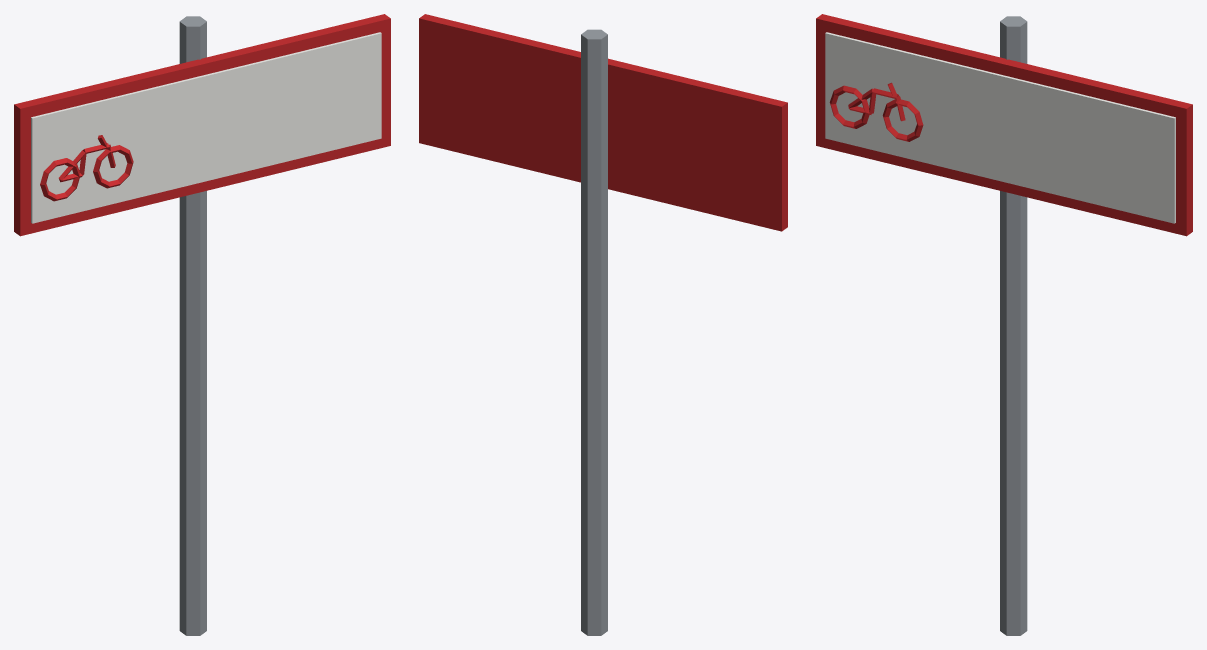
File: skylt_cykel.glb
The picture shows the model from 3 angles, left to right: view 1: azimuth 30°, elevation 25°; view 2: azimuth 150°, elevation 25°; view 3: azimuth 330°, elevation 25°; orthographic projection. The views are drawn at different scales.
Parts seen in each view (by area): view 1: skylt_cykel; view 2: skylt_cykel; view 3: skylt_cykel.
Boxes of the visible parts, <box> form: skylt_cykel: <box>14,14,390,635</box>; skylt_cykel: <box>419,14,787,635</box>; skylt_cykel: <box>816,14,1192,635</box>.
Size of the model in its own units: 1.4 by 2.2 by 0.157.
